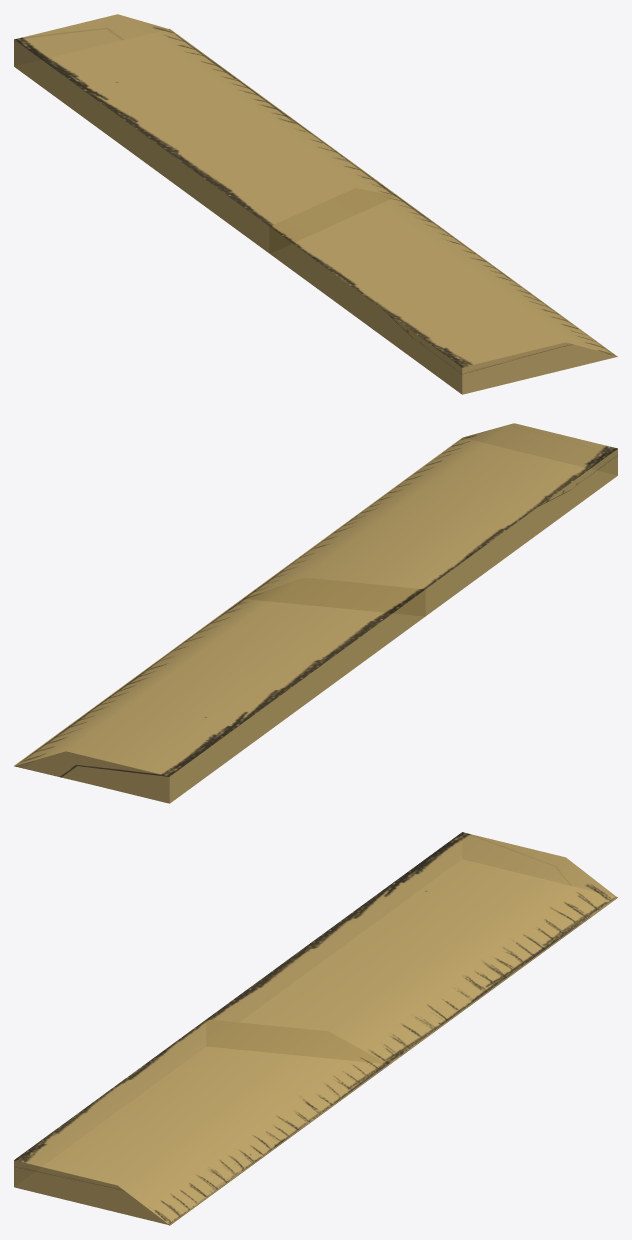
The model's file is Règle_Petite.fbx.
3 renders of one model, top to bottom at view 1: azimuth 30°, elevation 25°; view 2: azimuth 150°, elevation 25°; view 3: azimuth 330°, elevation 25°, orthographic.
Visible parts, largest first — view 1: pCube10, pCube9; view 2: pCube10, pCube9; view 3: pCube10, pCube9.
Part boxes in pixels (x1,y1,x2,y2): pCube10: [14, 14, 397, 253]; pCube9: [269, 188, 617, 394]; pCube10: [14, 577, 425, 803]; pCube9: [243, 423, 617, 616]; pCube10: [206, 832, 617, 1064]; pCube9: [14, 1019, 389, 1225].
Bounding box in the file's own units: 3 × 0.51 × 14.95.
Materials: 1 (1 with a texture image).
